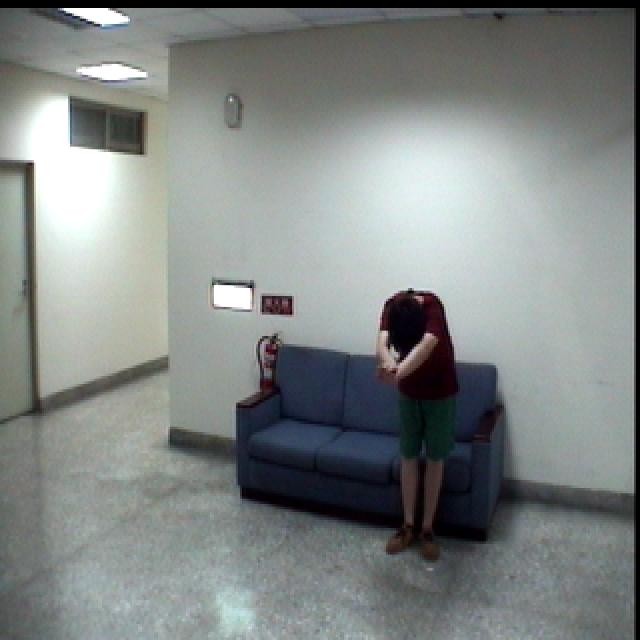bend: (367, 281, 455, 574)
